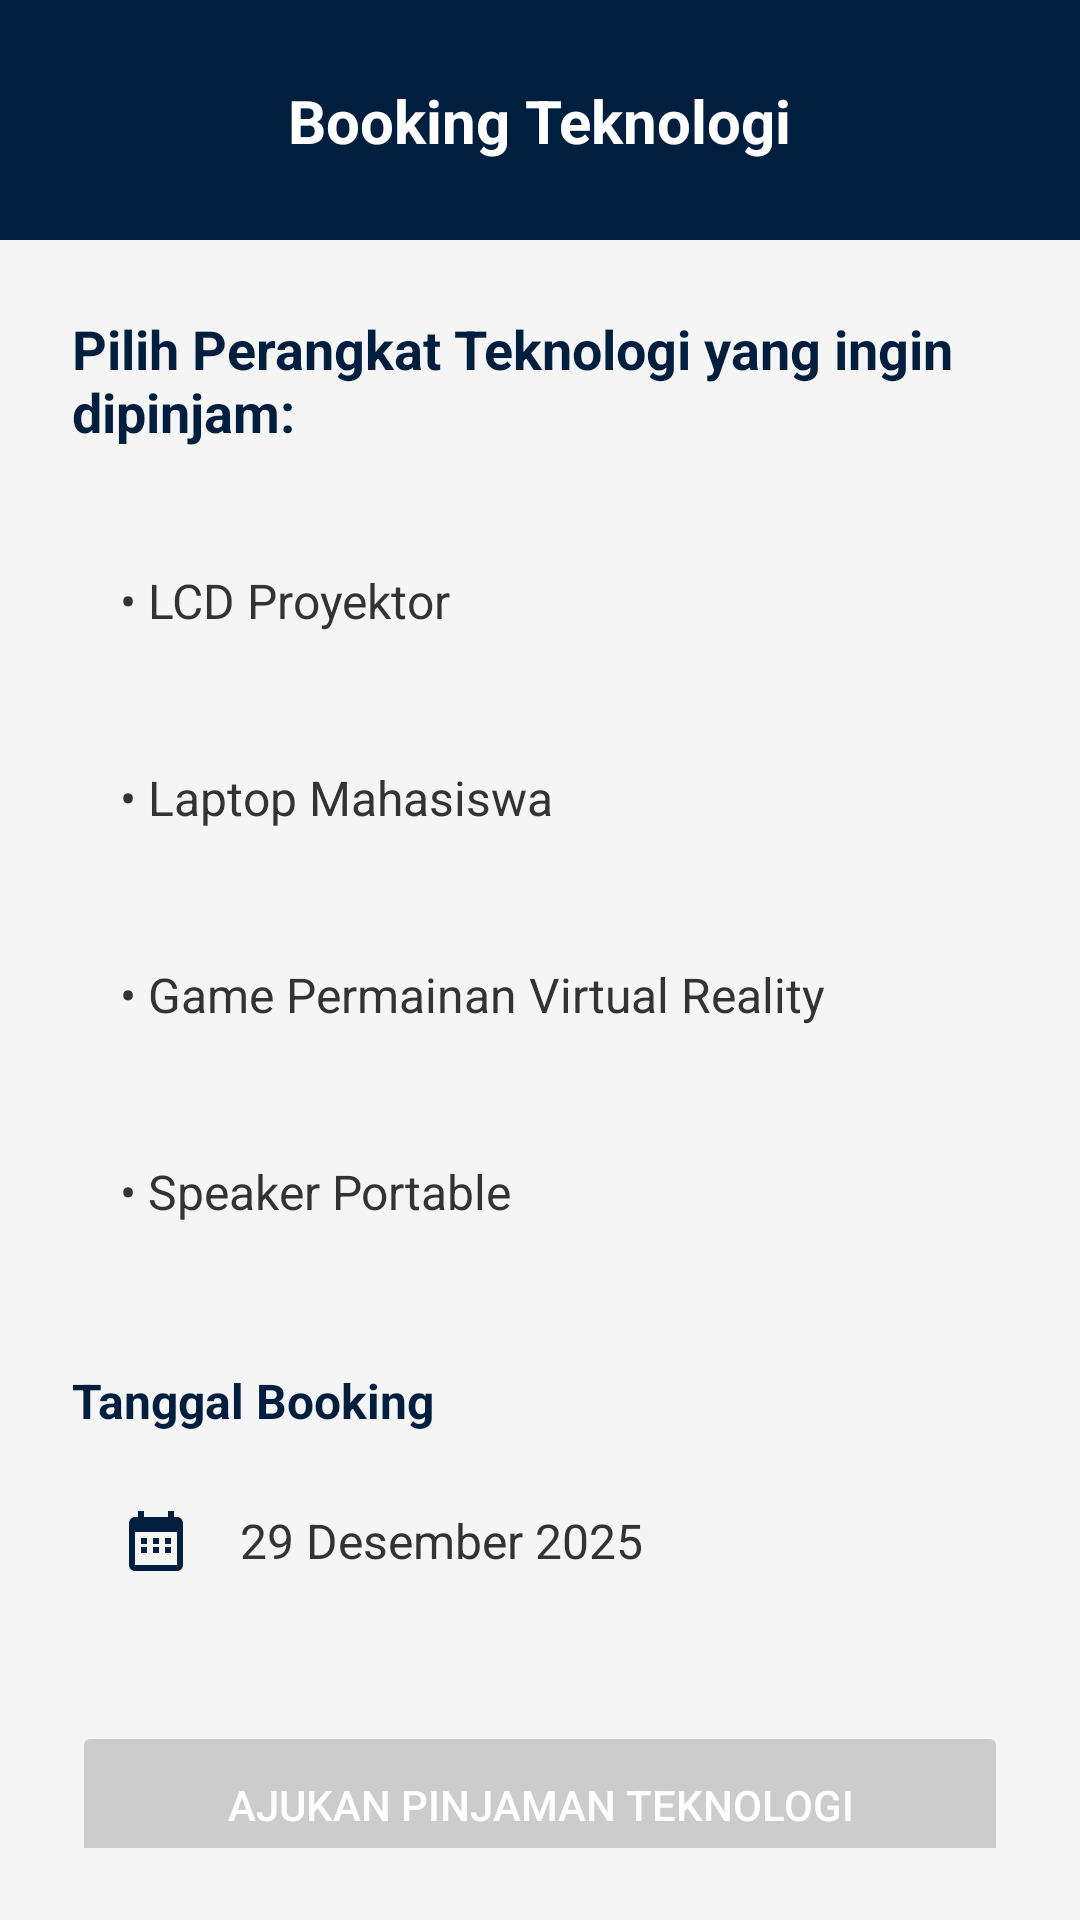

Screen size 1080w x 1920h. Icon name, then its center in pixels as [x,y]:
calendar: [156,1541]
